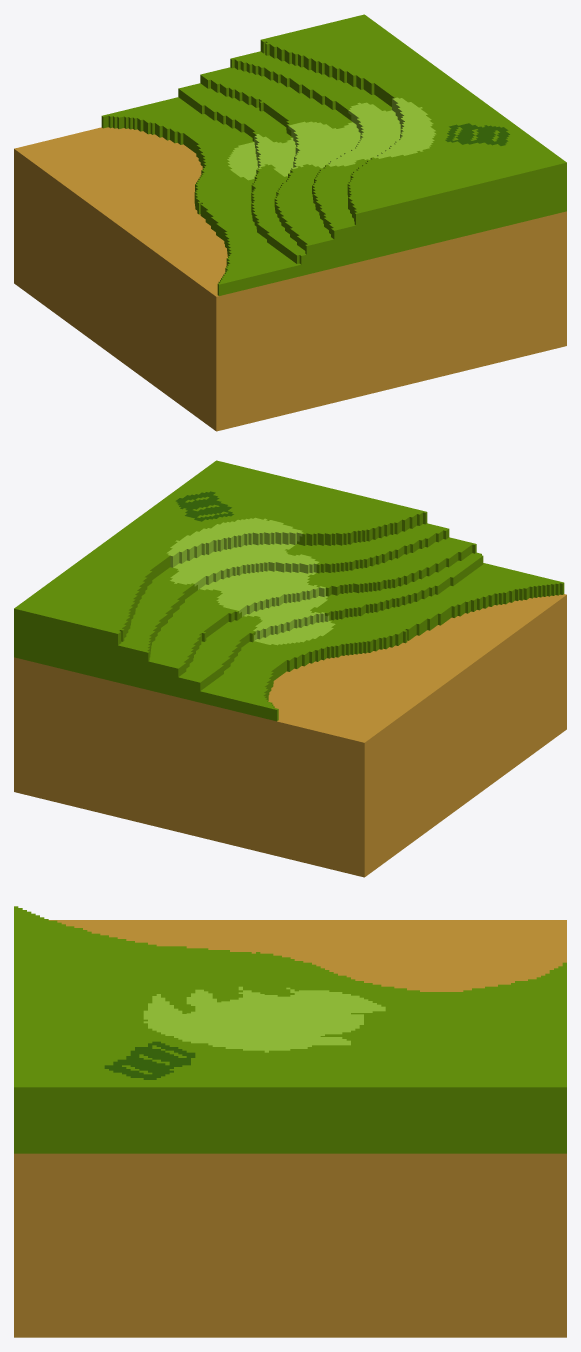
3 views of the same model, one above another, from view 1: azimuth 30°, elevation 25°; view 2: azimuth 150°, elevation 25°; view 3: azimuth 270°, elevation 25° (orthographic). The views are drawn at different scales.
Visible parts, largest first — view 1: 15D; view 2: 15D; view 3: 15D.
Part boxes in pixels (x1,y1,x2,y2): 15D: (14, 14, 566, 431); 15D: (14, 460, 566, 877); 15D: (14, 906, 566, 1337).
Bounding box in the file's own units: 12.8 × 6.4 × 12.8.
1 material, 1 textured.
